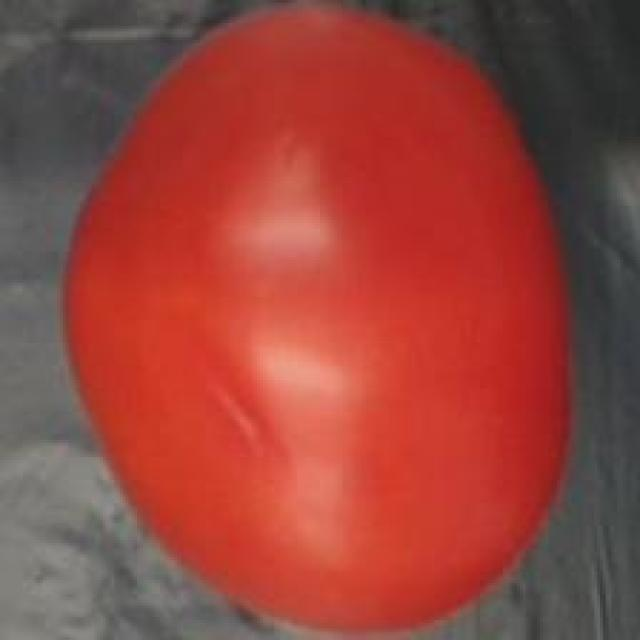ripe tomato: (46, 3, 580, 640)
